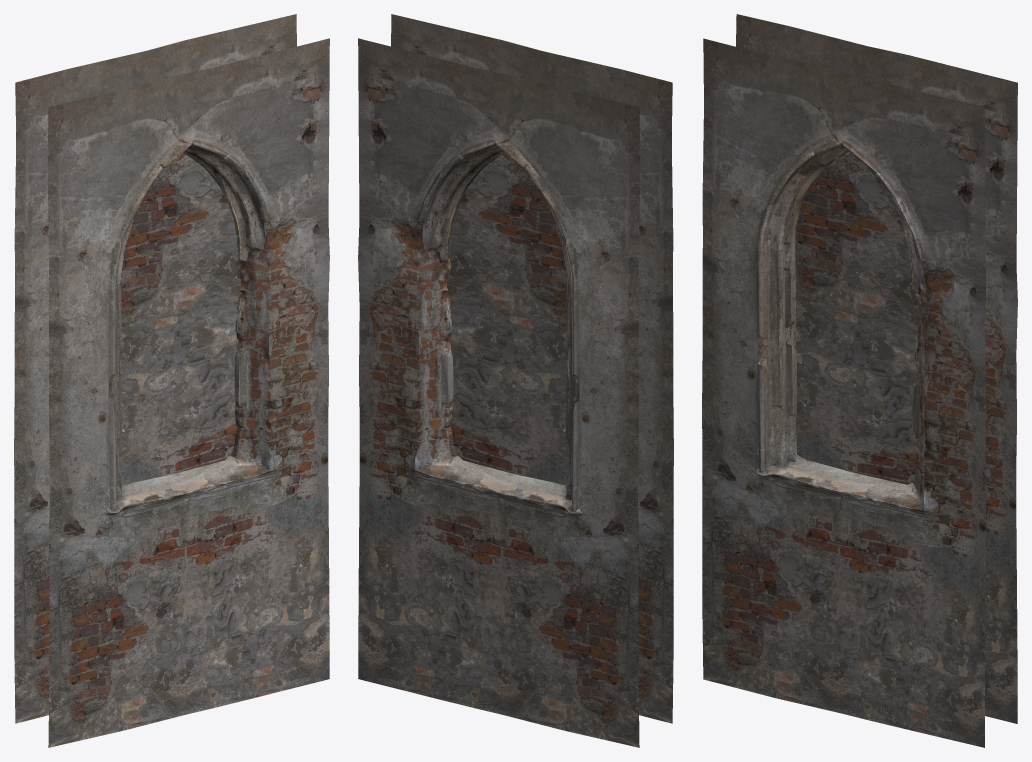
The model's file is SM_ChapelWall_01_06.fbx.
3 renders of one model, left to right at view 1: azimuth 30°, elevation 25°; view 2: azimuth 150°, elevation 25°; view 3: azimuth 330°, elevation 25°, orthographic.
Visible parts, largest first — view 1: sm_ChapelWall_01_06_LOD0; view 2: sm_ChapelWall_01_06_LOD0; view 3: sm_ChapelWall_01_06_LOD0.
Part boxes in pixels (x1=…): sm_ChapelWall_01_06_LOD0: x1=14, y1=14, x2=329, y2=747; sm_ChapelWall_01_06_LOD0: x1=358, y1=14, x2=673, y2=747; sm_ChapelWall_01_06_LOD0: x1=702, y1=14, x2=1017, y2=747.
Bounding box in the file's own units: 66.82 × 250 × 544.
